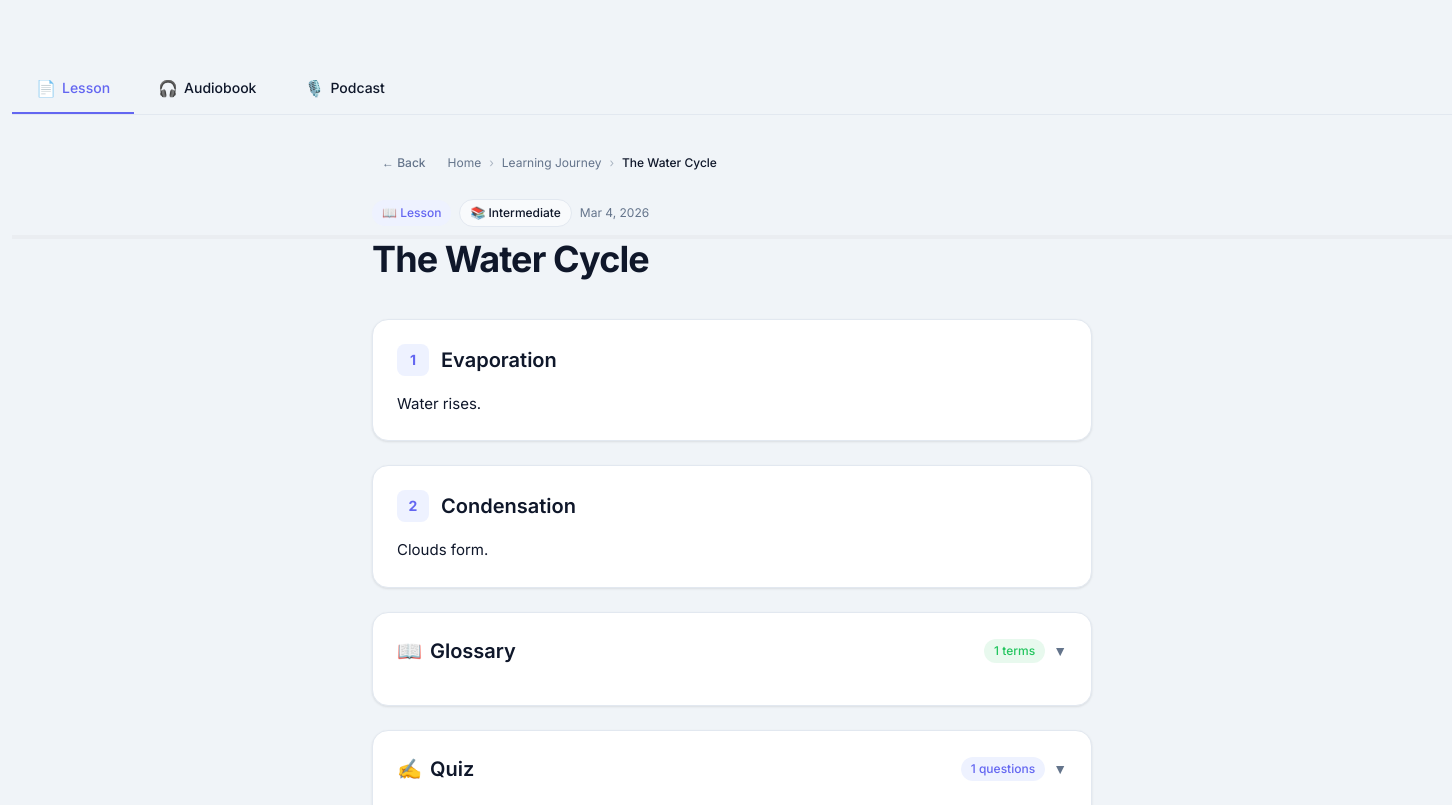
Test: LessonContent — glossary › hides glossary entries until the toggle is used
The image size is (1452, 805).
Expected: the text "Liquid to gas." is not shown
Step 1. Click the button "📖 Glossary 1 terms ▼" → [473, 651], box 397,637 -> 1067,665
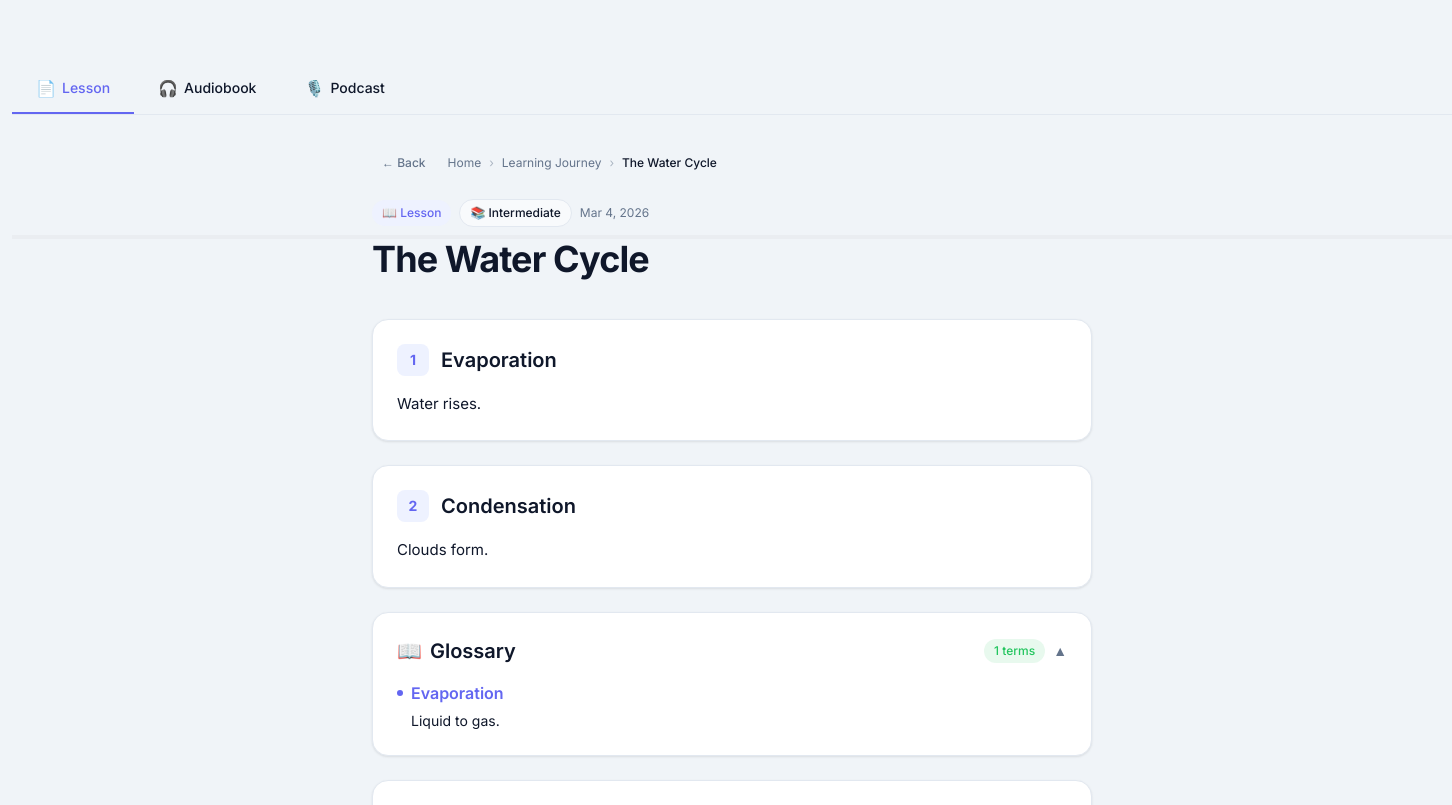
Expected: the text "Liquid to gas." is shown, 411,712 -> 500,729
